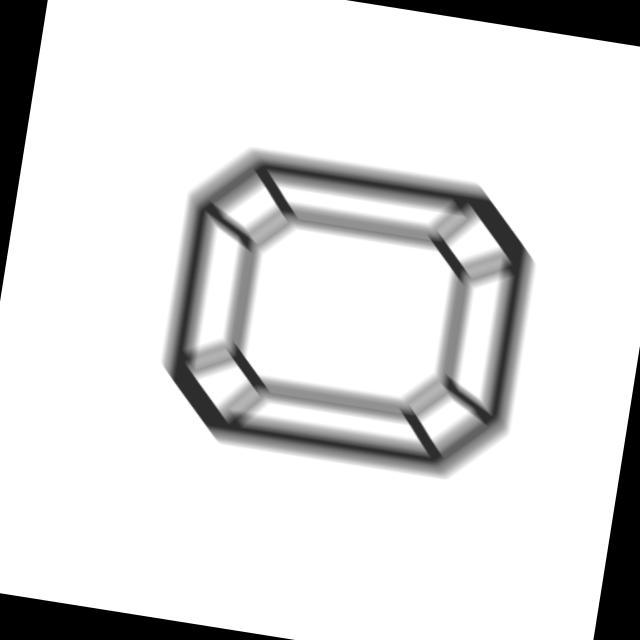emerald: (140, 130, 555, 498)
